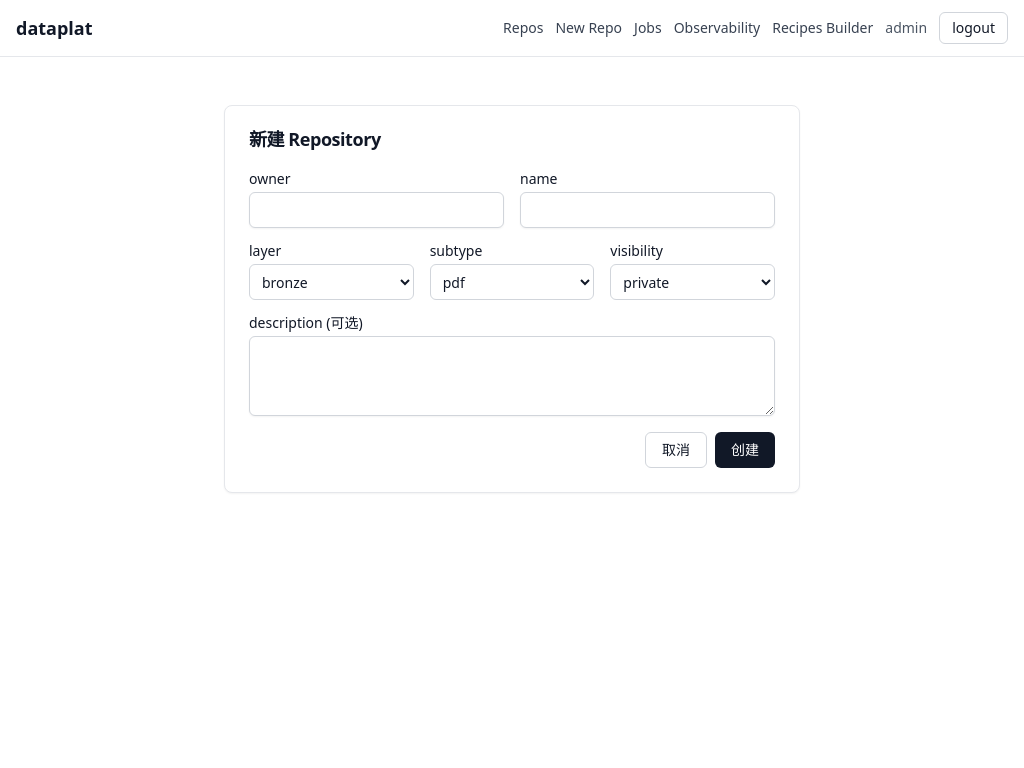
it: /repos/new › renders schema_id+row_format when layer=silver
Select "silver" in the dropdown labelled "layer": x=331, y=282 [249, 264, 414, 300]
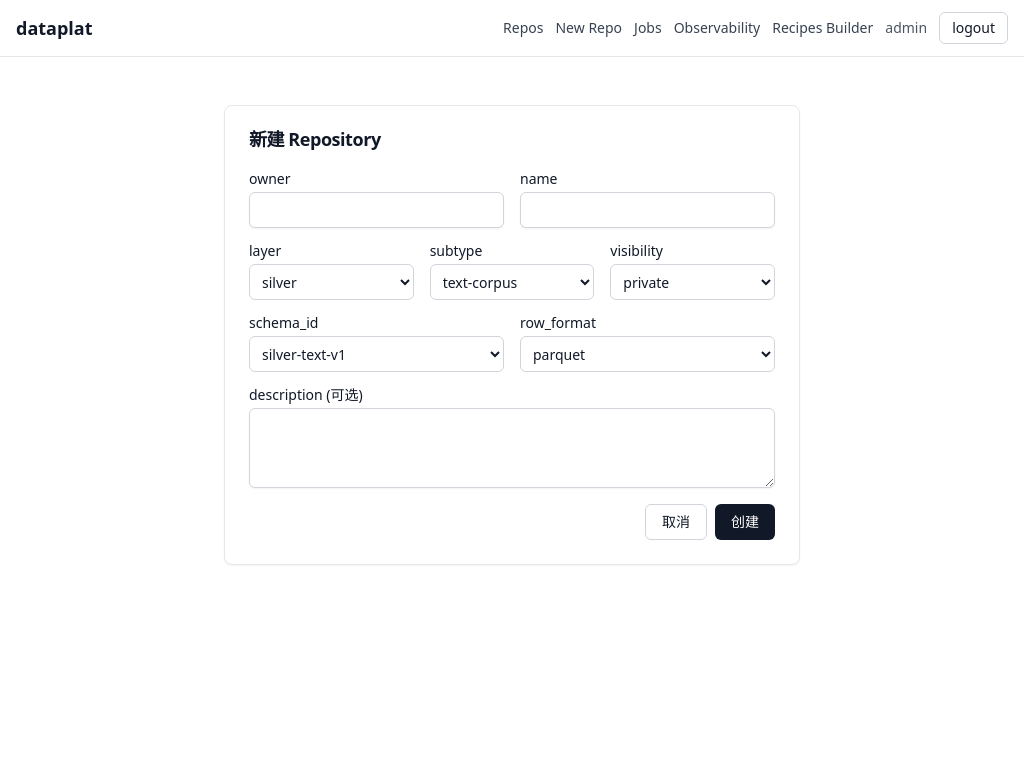
Check: the dropdown labelled "schema_id" shows "silver-text-v1", box [249, 336, 504, 372]
Check: the dropdown labelled "row_format" shows "parquet", box [520, 336, 775, 372]
